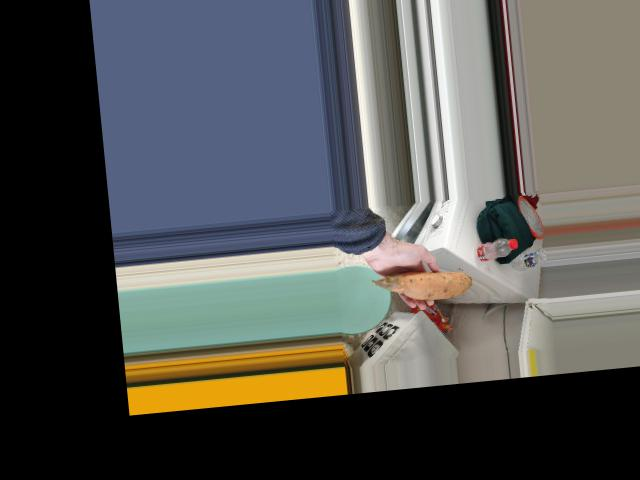sweet_potato: (376, 265, 464, 299)
